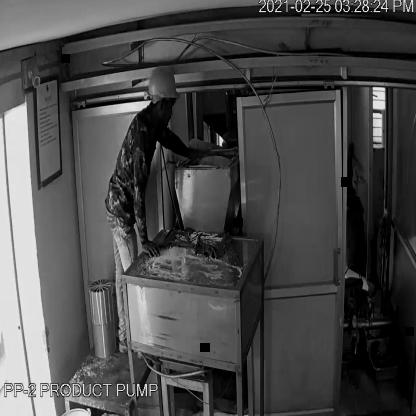helmet: (146, 57, 181, 102)
